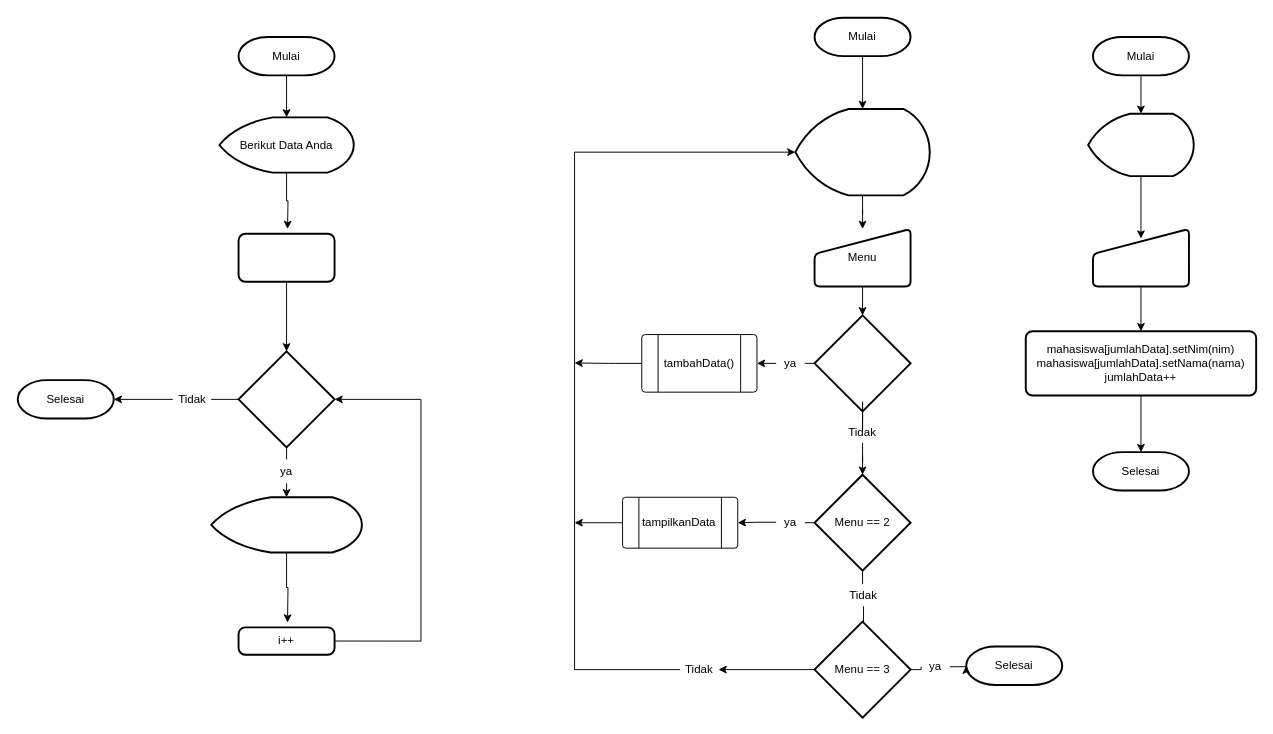
This 1273x734 diagram has some shape labels left out. Each missing label, with the centre of its shape:
"Menu Siakad 1. Tambahkan Data 2. Tampilkan Data 3. Keluar: point 862,152
i = 0: point 286,257
i<jumlahData: point 286,399
mahasiwa[i].getNim mahasiwa[i].getNama: point 286,524
Menu == 1: point 862,363
nim, nama: point 1140,257
Tambahkan Data: point 1140,144
